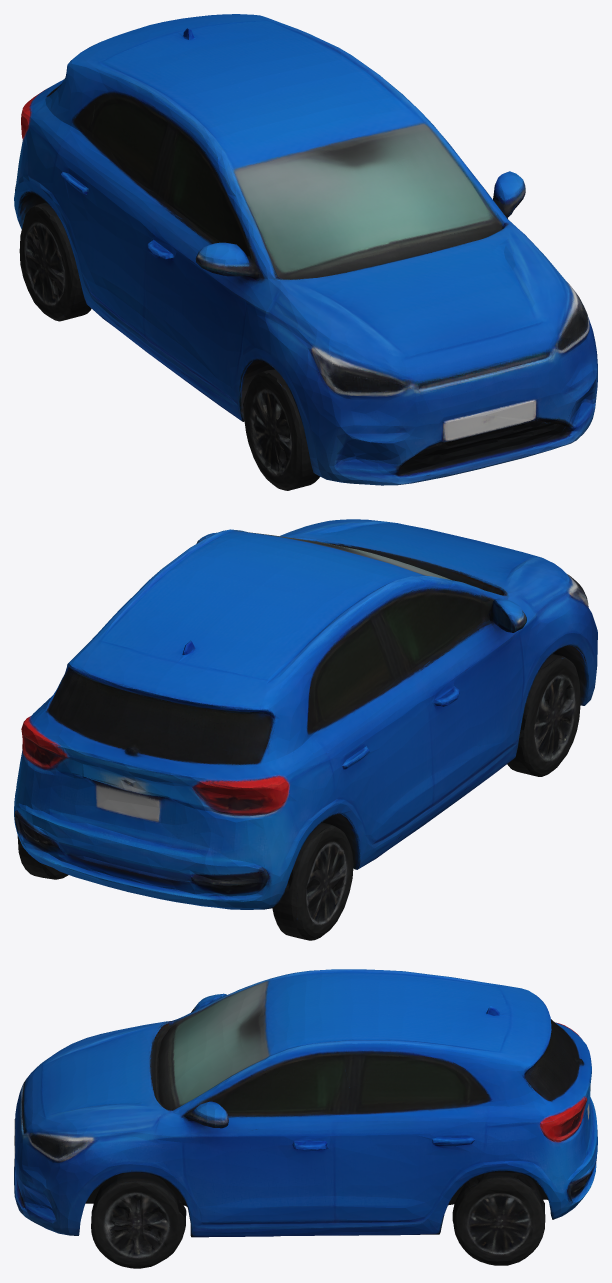
Rendered from spirit-sam3d.glb.
The picture shows the model from 3 angles, top to bottom: view 1: azimuth 30°, elevation 25°; view 2: azimuth 150°, elevation 25°; view 3: azimuth 270°, elevation 25°; orthographic projection. The views are drawn at different scales.
Parts seen in each view (by area): view 1: geometry_0; view 2: geometry_0; view 3: geometry_0.
Boxes of the visible parts, x1,y1,x2,y2 form: geometry_0: [14, 14, 597, 490]; geometry_0: [14, 519, 597, 940]; geometry_0: [14, 969, 597, 1268].
Bounding box in the file's own units: 0.5074 × 0.3971 × 0.999.
Materials: 1 (1 with a texture image).
